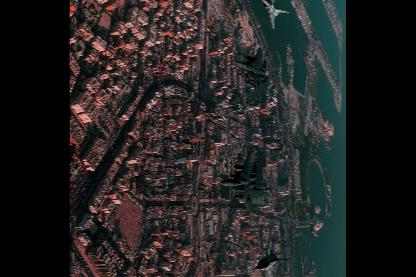F117: (220, 149, 272, 212), (235, 46, 280, 102)
RQ4: (253, 237, 290, 276), (259, 0, 290, 30)
